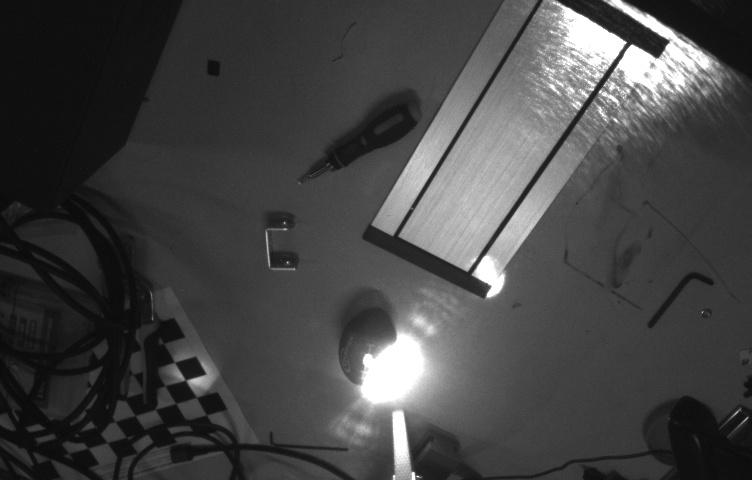Object toy football - Material foam - Color blue - Pdfname VT1ffZoLOnKv: (351, 327, 422, 390)
